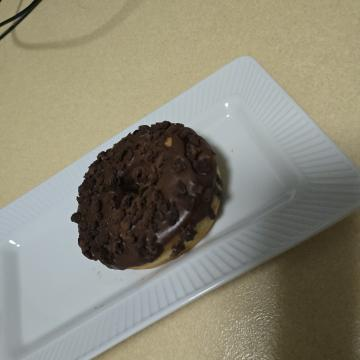doughnut: (108, 131, 287, 305)
